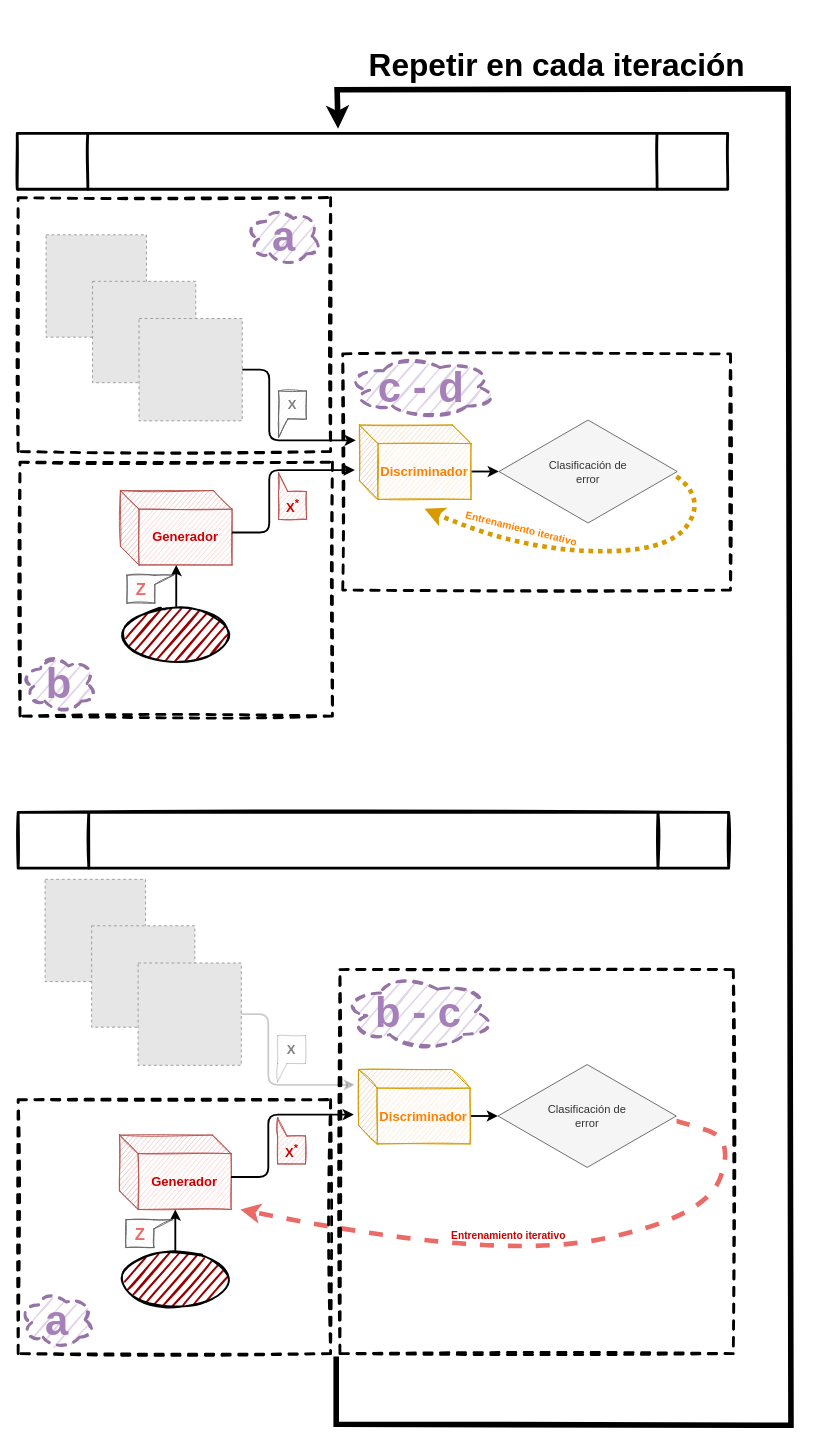
The diagram is 828 pixels wide and 1451 high, and some of its shapes have lost their labels. Grey dashed boxes stand in for pictures. The shapes that lost their labels are listed below. From the top down, each one's box as (x1, y1, x2, y2) in pixels, then its label:
(15, 132, 729, 190): 1.- Entrenamiento Discriminador
(16, 810, 730, 869): 2.- Entrenamiento Generador
